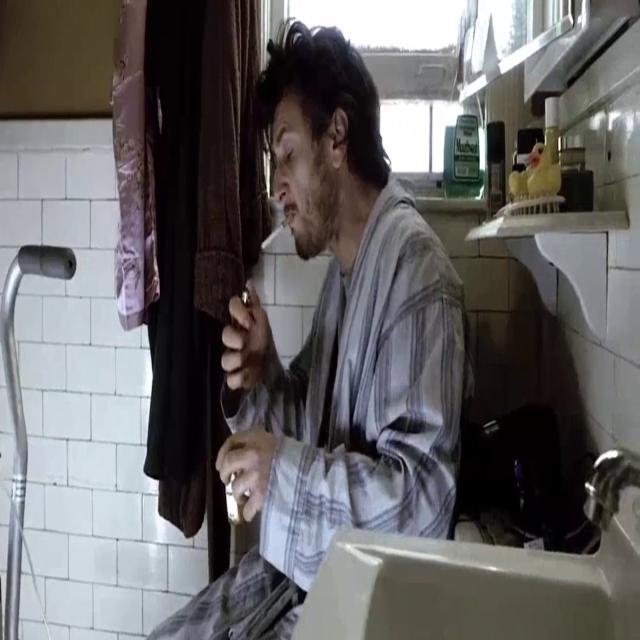Smooking: (256, 210, 300, 260)
